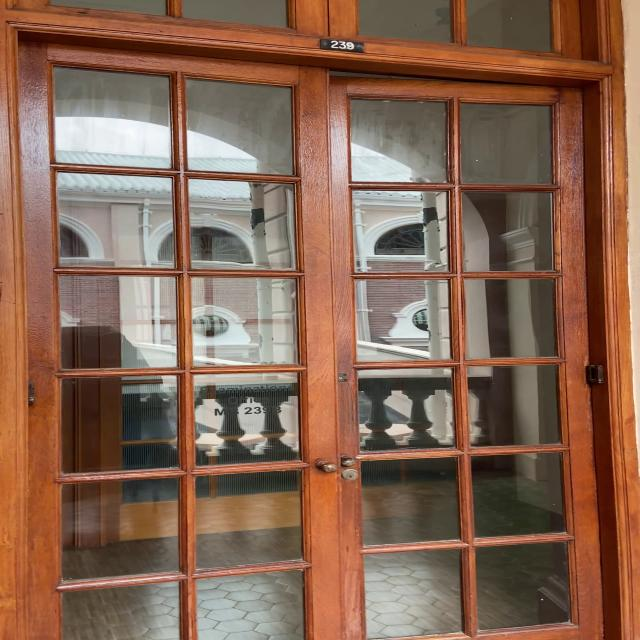room239: (315, 36, 367, 54)
